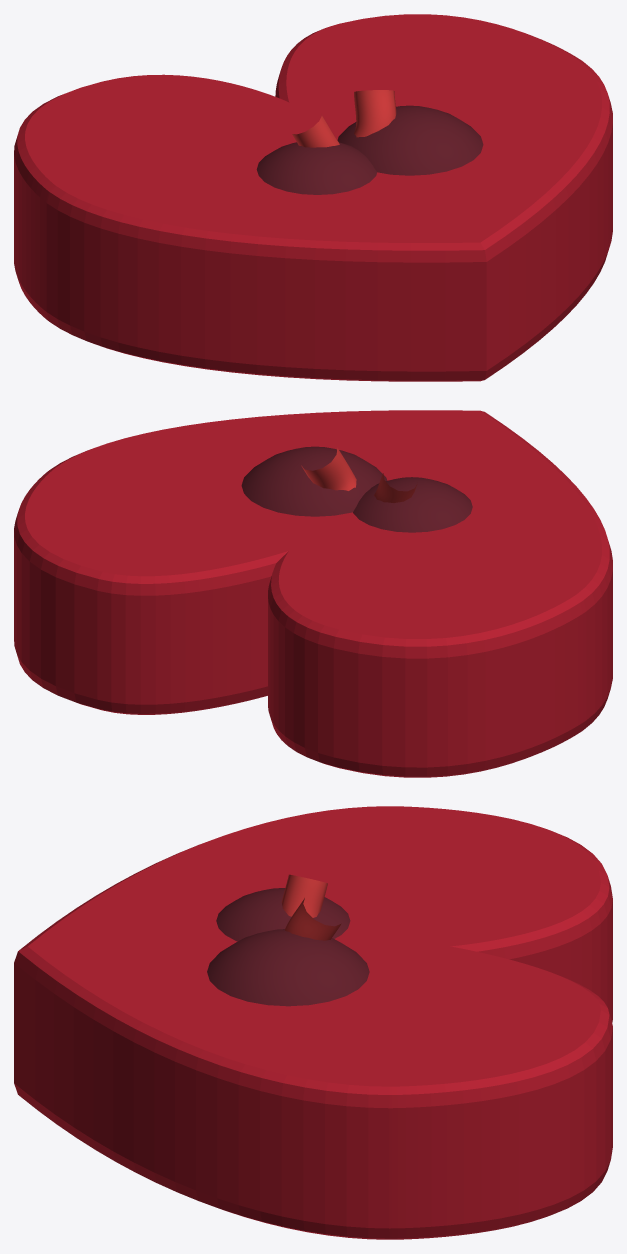
The model's file is heart.glb.
3 views of the same model, one above another, from view 1: azimuth 30°, elevation 25°; view 2: azimuth 150°, elevation 25°; view 3: azimuth 270°, elevation 25° (orthographic). The views are drawn at different scales.
Parts seen in each view (by area): view 1: Myocardium, Chamber_Left, Chamber_Right, Aorta, PulmonaryArtery; view 2: Myocardium, Chamber_Left, Chamber_Right, Aorta, PulmonaryArtery; view 3: Myocardium, Chamber_Left, Chamber_Right, PulmonaryArtery, Aorta.
Part boxes in pixels (x1,y1,x2,y2): Myocardium: (14,14,612,381); Chamber_Left: (337,105,483,175); Chamber_Right: (256,142,376,194); Aorta: (354,90,396,137); PulmonaryArtery: (292,114,339,147); Myocardium: (14,410,612,777); Chamber_Left: (241,446,387,516); Chamber_Right: (353,477,472,532); Aorta: (301,447,356,490); PulmonaryArtery: (374,473,417,502); Myocardium: (14,806,612,1239); Chamber_Left: (207,929,369,1006); Chamber_Right: (216,888,350,941); PulmonaryArtery: (281,874,327,917); Aorta: (285,898,341,940).
Bounding box in the file's own units: 1.37 × 0.5019 × 1.19.
